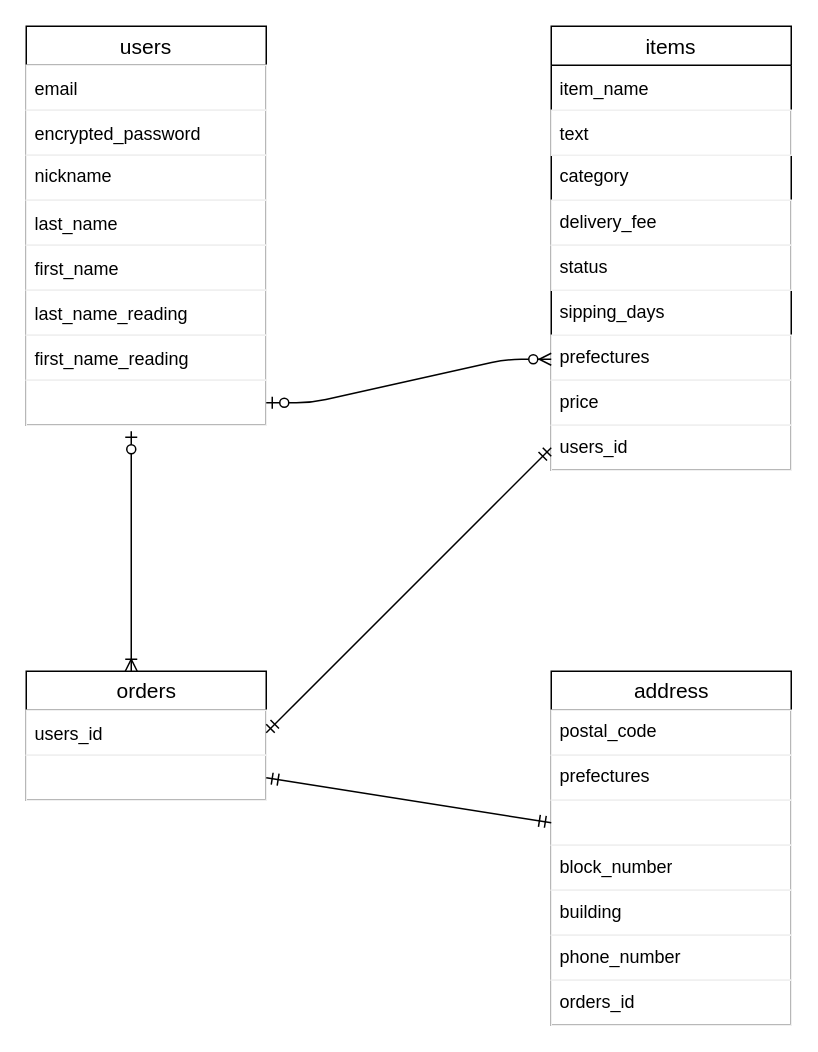
This 818x1052 diagram has some shape labels left out. Here are the shapes that lost their labels. From the top down, the centre of each, then its label:
At [145,402]: "birthday".
At [145,777]: "items_id".
At [670,822]: "municipalities".
